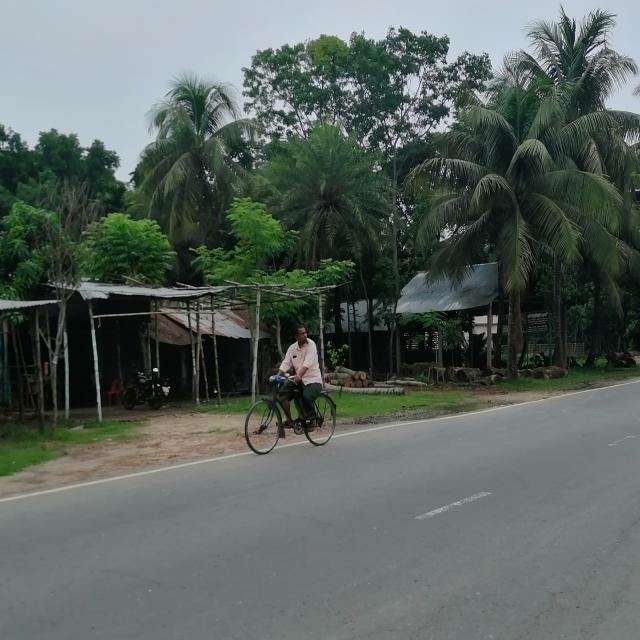Bicycle: (242, 368, 346, 462)
